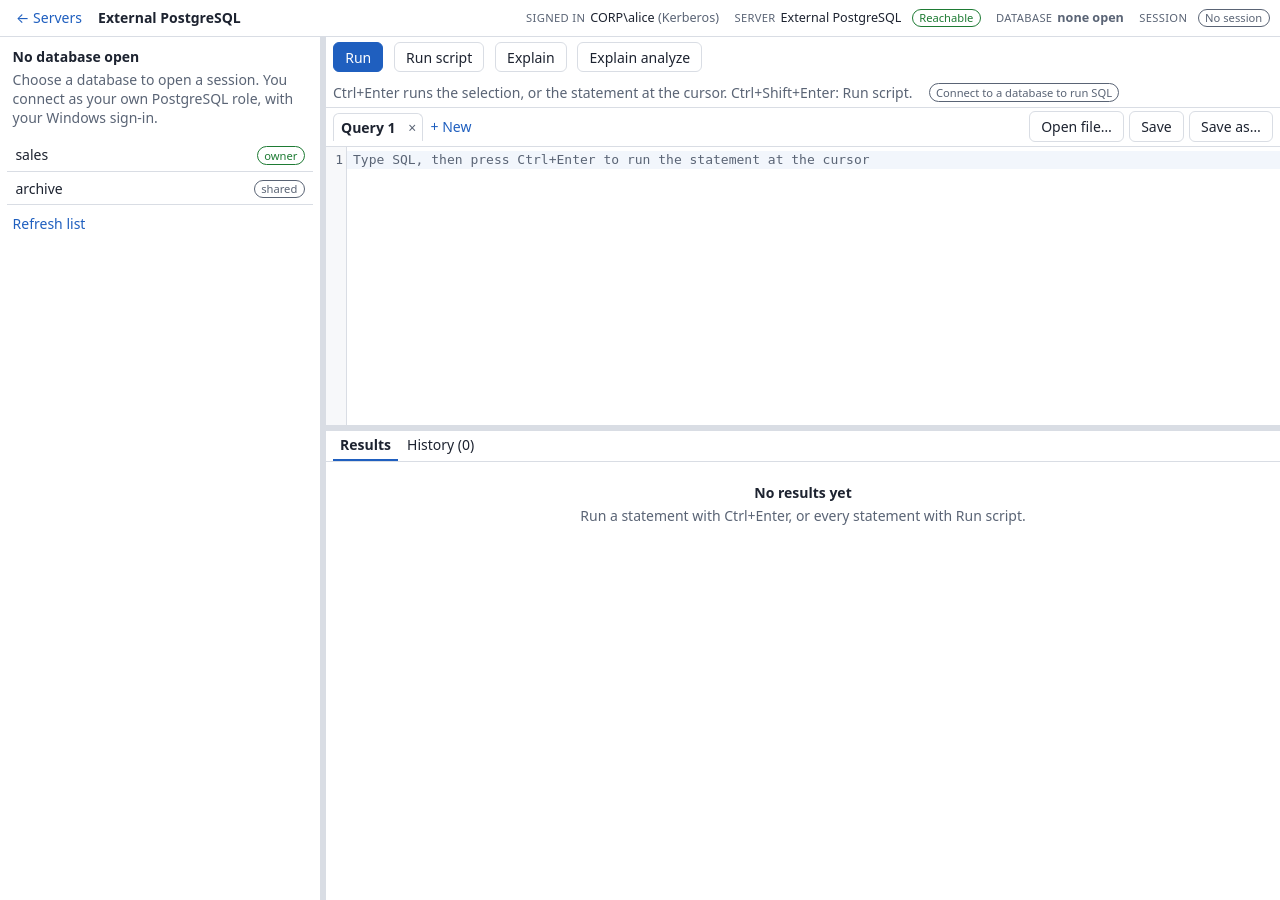
Test: Workspace editor (admin Phase 2) › a refused statement is recorded in the history too
Step 1. Click the button "sales owner" → [32, 155], box [7,139,313,172]
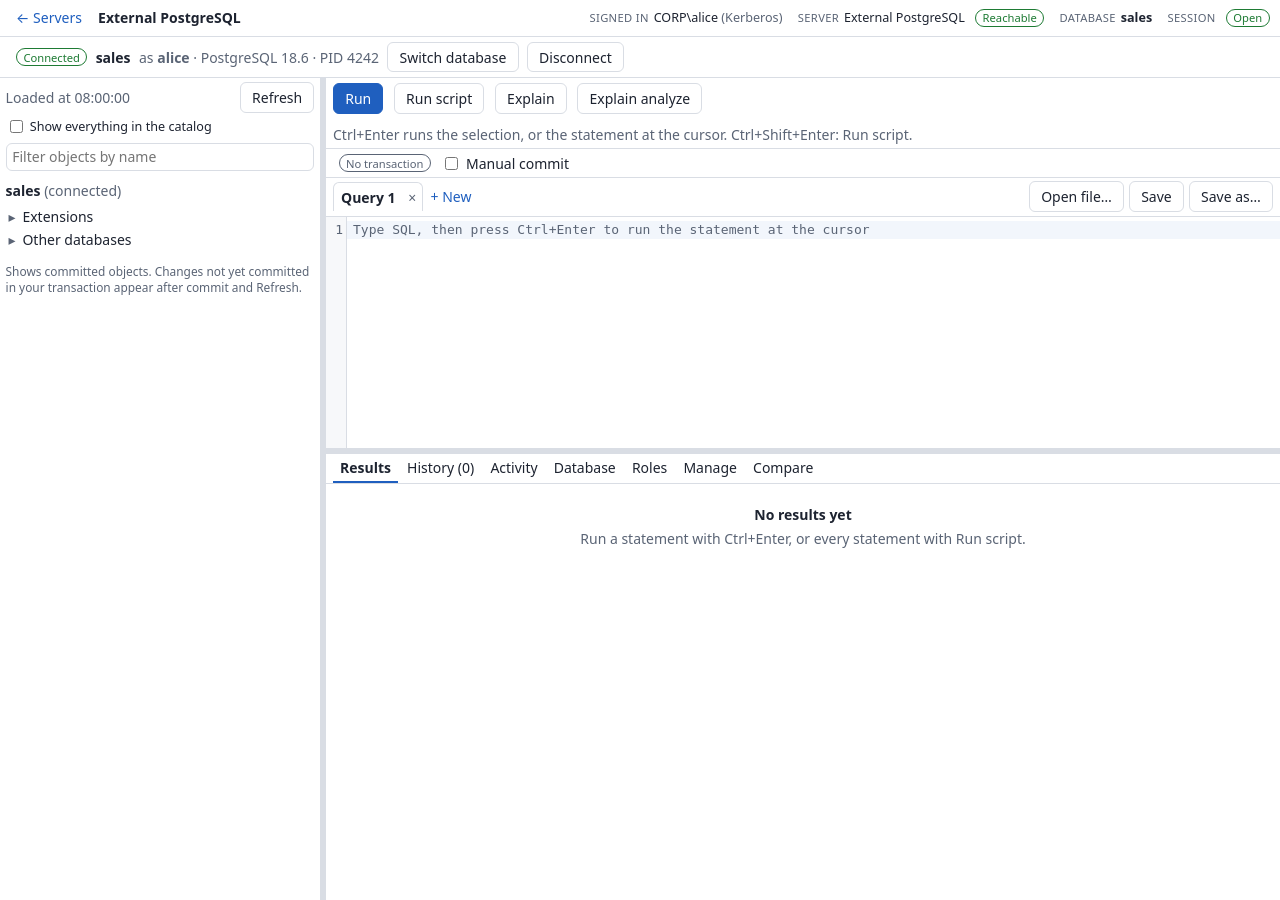
Expected: the field named "SQL editor" is shown, [347,221,1279,239]
Expected: the button "Switch database" is shown, [387,42,518,72]
Step 2. Click the button "Run" → [358, 99], box [333,83,383,114]
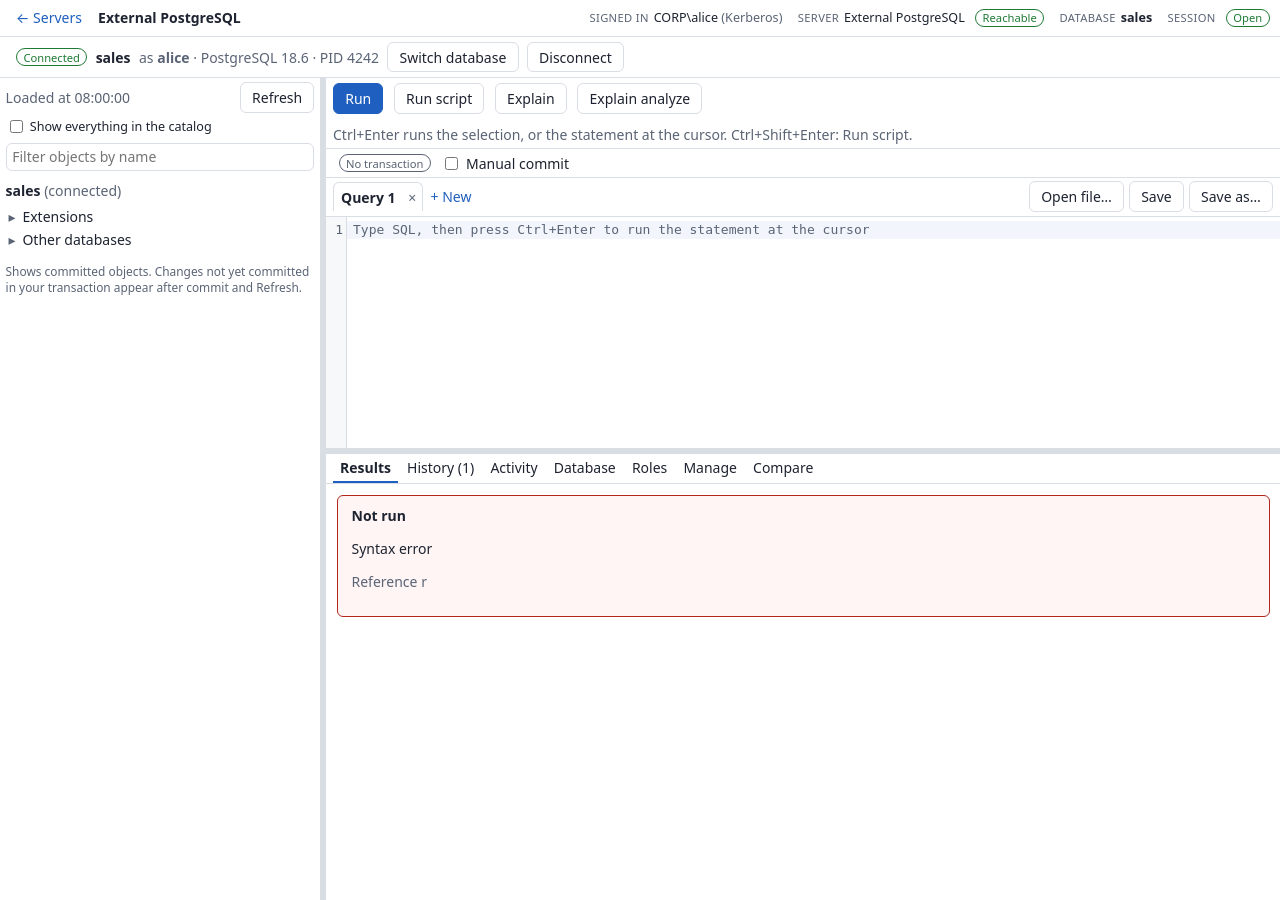
Expected: the heading "Not run" is shown, [352,506,406,526]
Step 3. Click the tab "History (1)" → [441, 469], box [400,454,481,484]
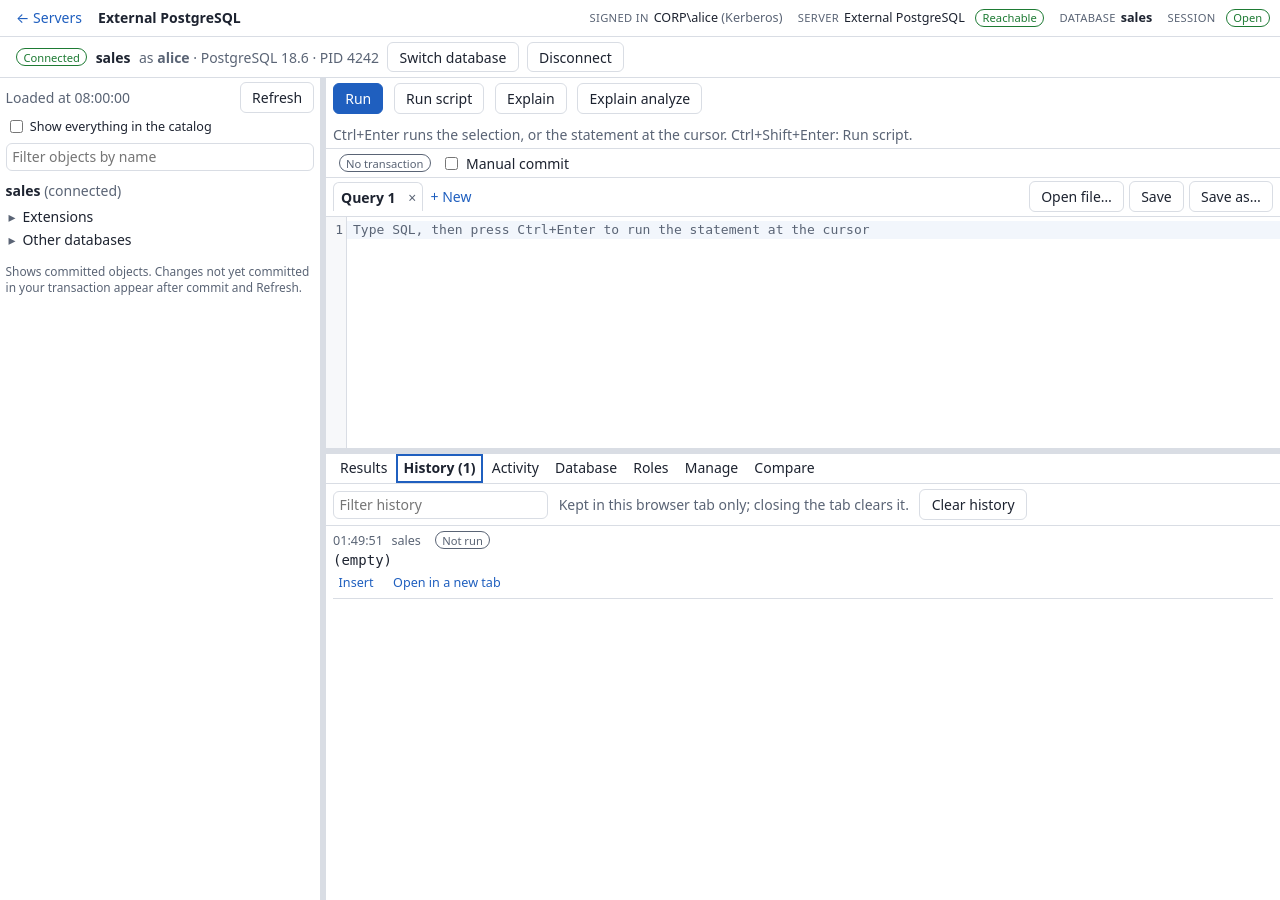
Expected: the text "Not run" is shown, [435,531,490,549]
Step 4. Click the button "Insert" → [356, 582], box [333,571,379,594]
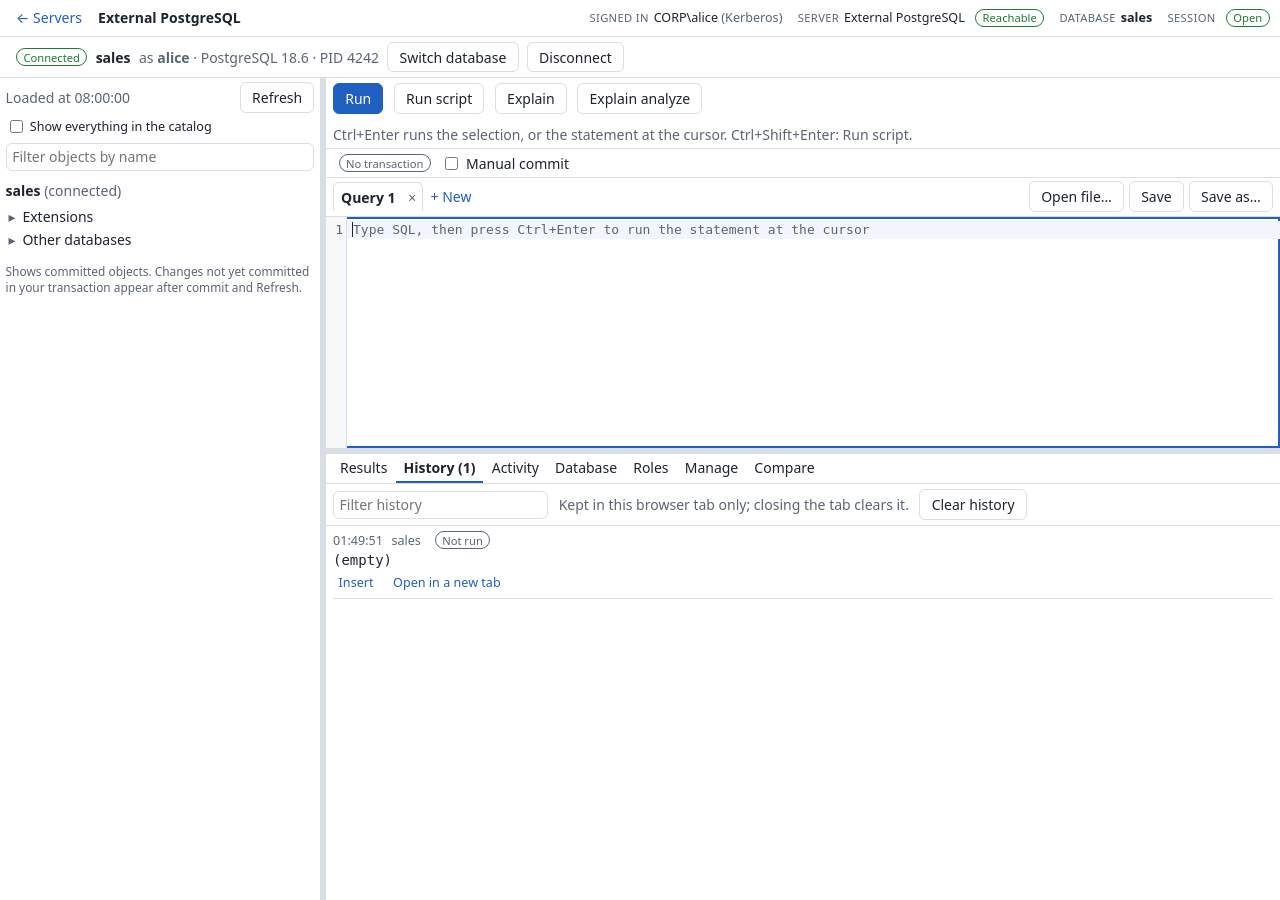
Step 5. Click the button "Clear history" → [973, 505], box [919,489,1027,520]
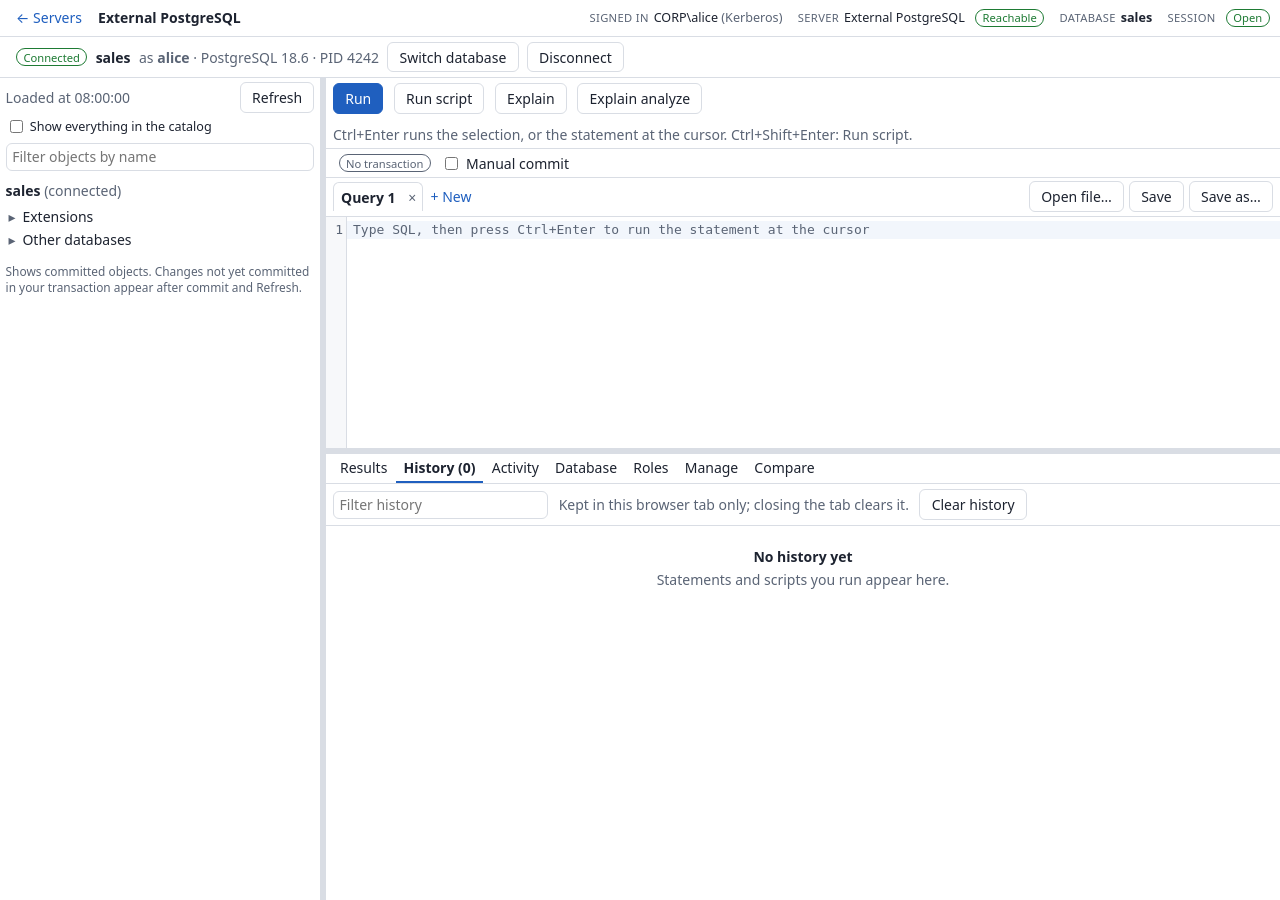
Expected: the tab "History (0)" is shown, [396,454,483,484]
